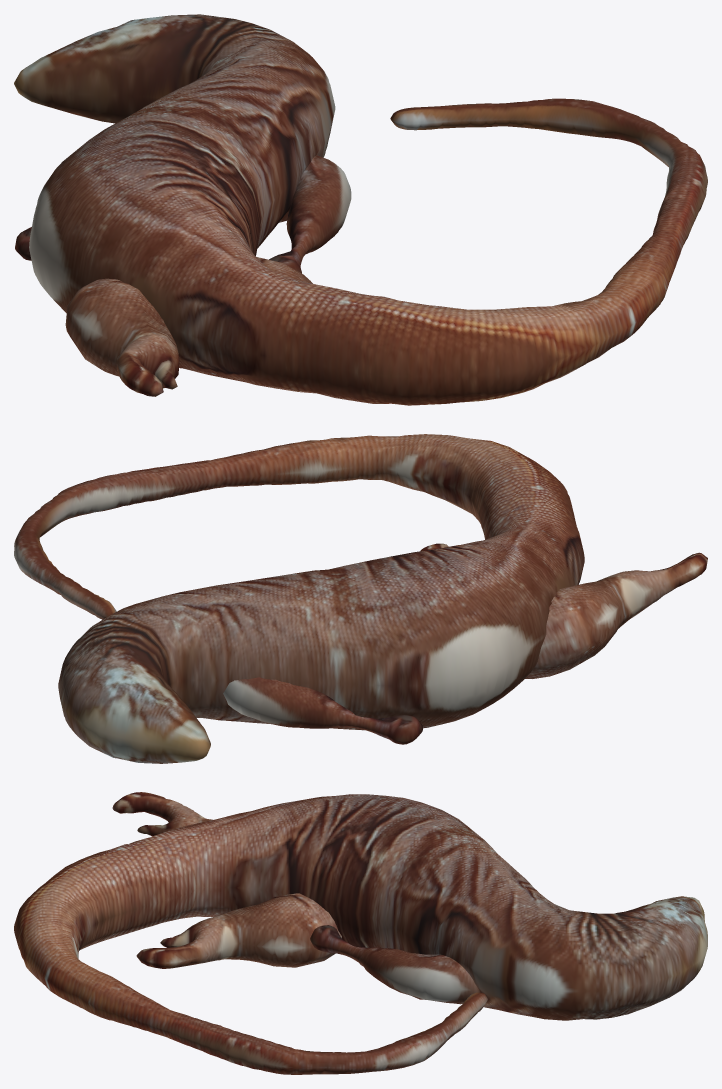
The model's file is monitorlizard.glb.
3 renders of one model, top to bottom at view 1: azimuth 30°, elevation 25°; view 2: azimuth 150°, elevation 25°; view 3: azimuth 270°, elevation 25°, orthographic. The views are drawn at different scales.
Visible parts, largest first — view 1: Mesh_0; view 2: Mesh_0; view 3: Mesh_0.
Part boxes in pixels (x1,y1,x2,y2): Mesh_0: (14, 14, 707, 405); Mesh_0: (14, 434, 707, 763); Mesh_0: (14, 792, 707, 1074).
Size of the model in its own units: 0.4213 by 0.1099 by 0.4761.
1 material, 1 textured.
